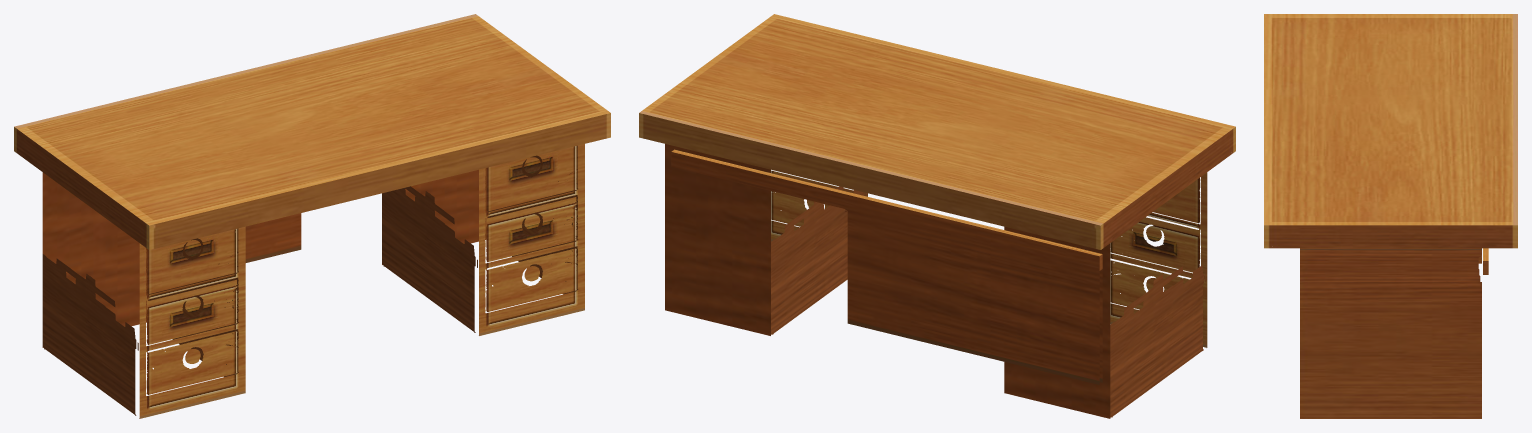
The model's file is desk4.fbx.
3 views of the same model, side by side, from view 1: azimuth 30°, elevation 25°; view 2: azimuth 150°, elevation 25°; view 3: azimuth 270°, elevation 25° (orthographic). The views are drawn at different scales.
Visible parts, largest first — view 1: desk4; view 2: desk4; view 3: desk4.
Boxes of the visible parts, bbox=[...] form: desk4: bbox=[14, 14, 610, 418]; desk4: bbox=[639, 14, 1235, 418]; desk4: bbox=[1264, 14, 1517, 418].
Bounding box in the file's own units: 10.48 × 4.55 × 5.31.
